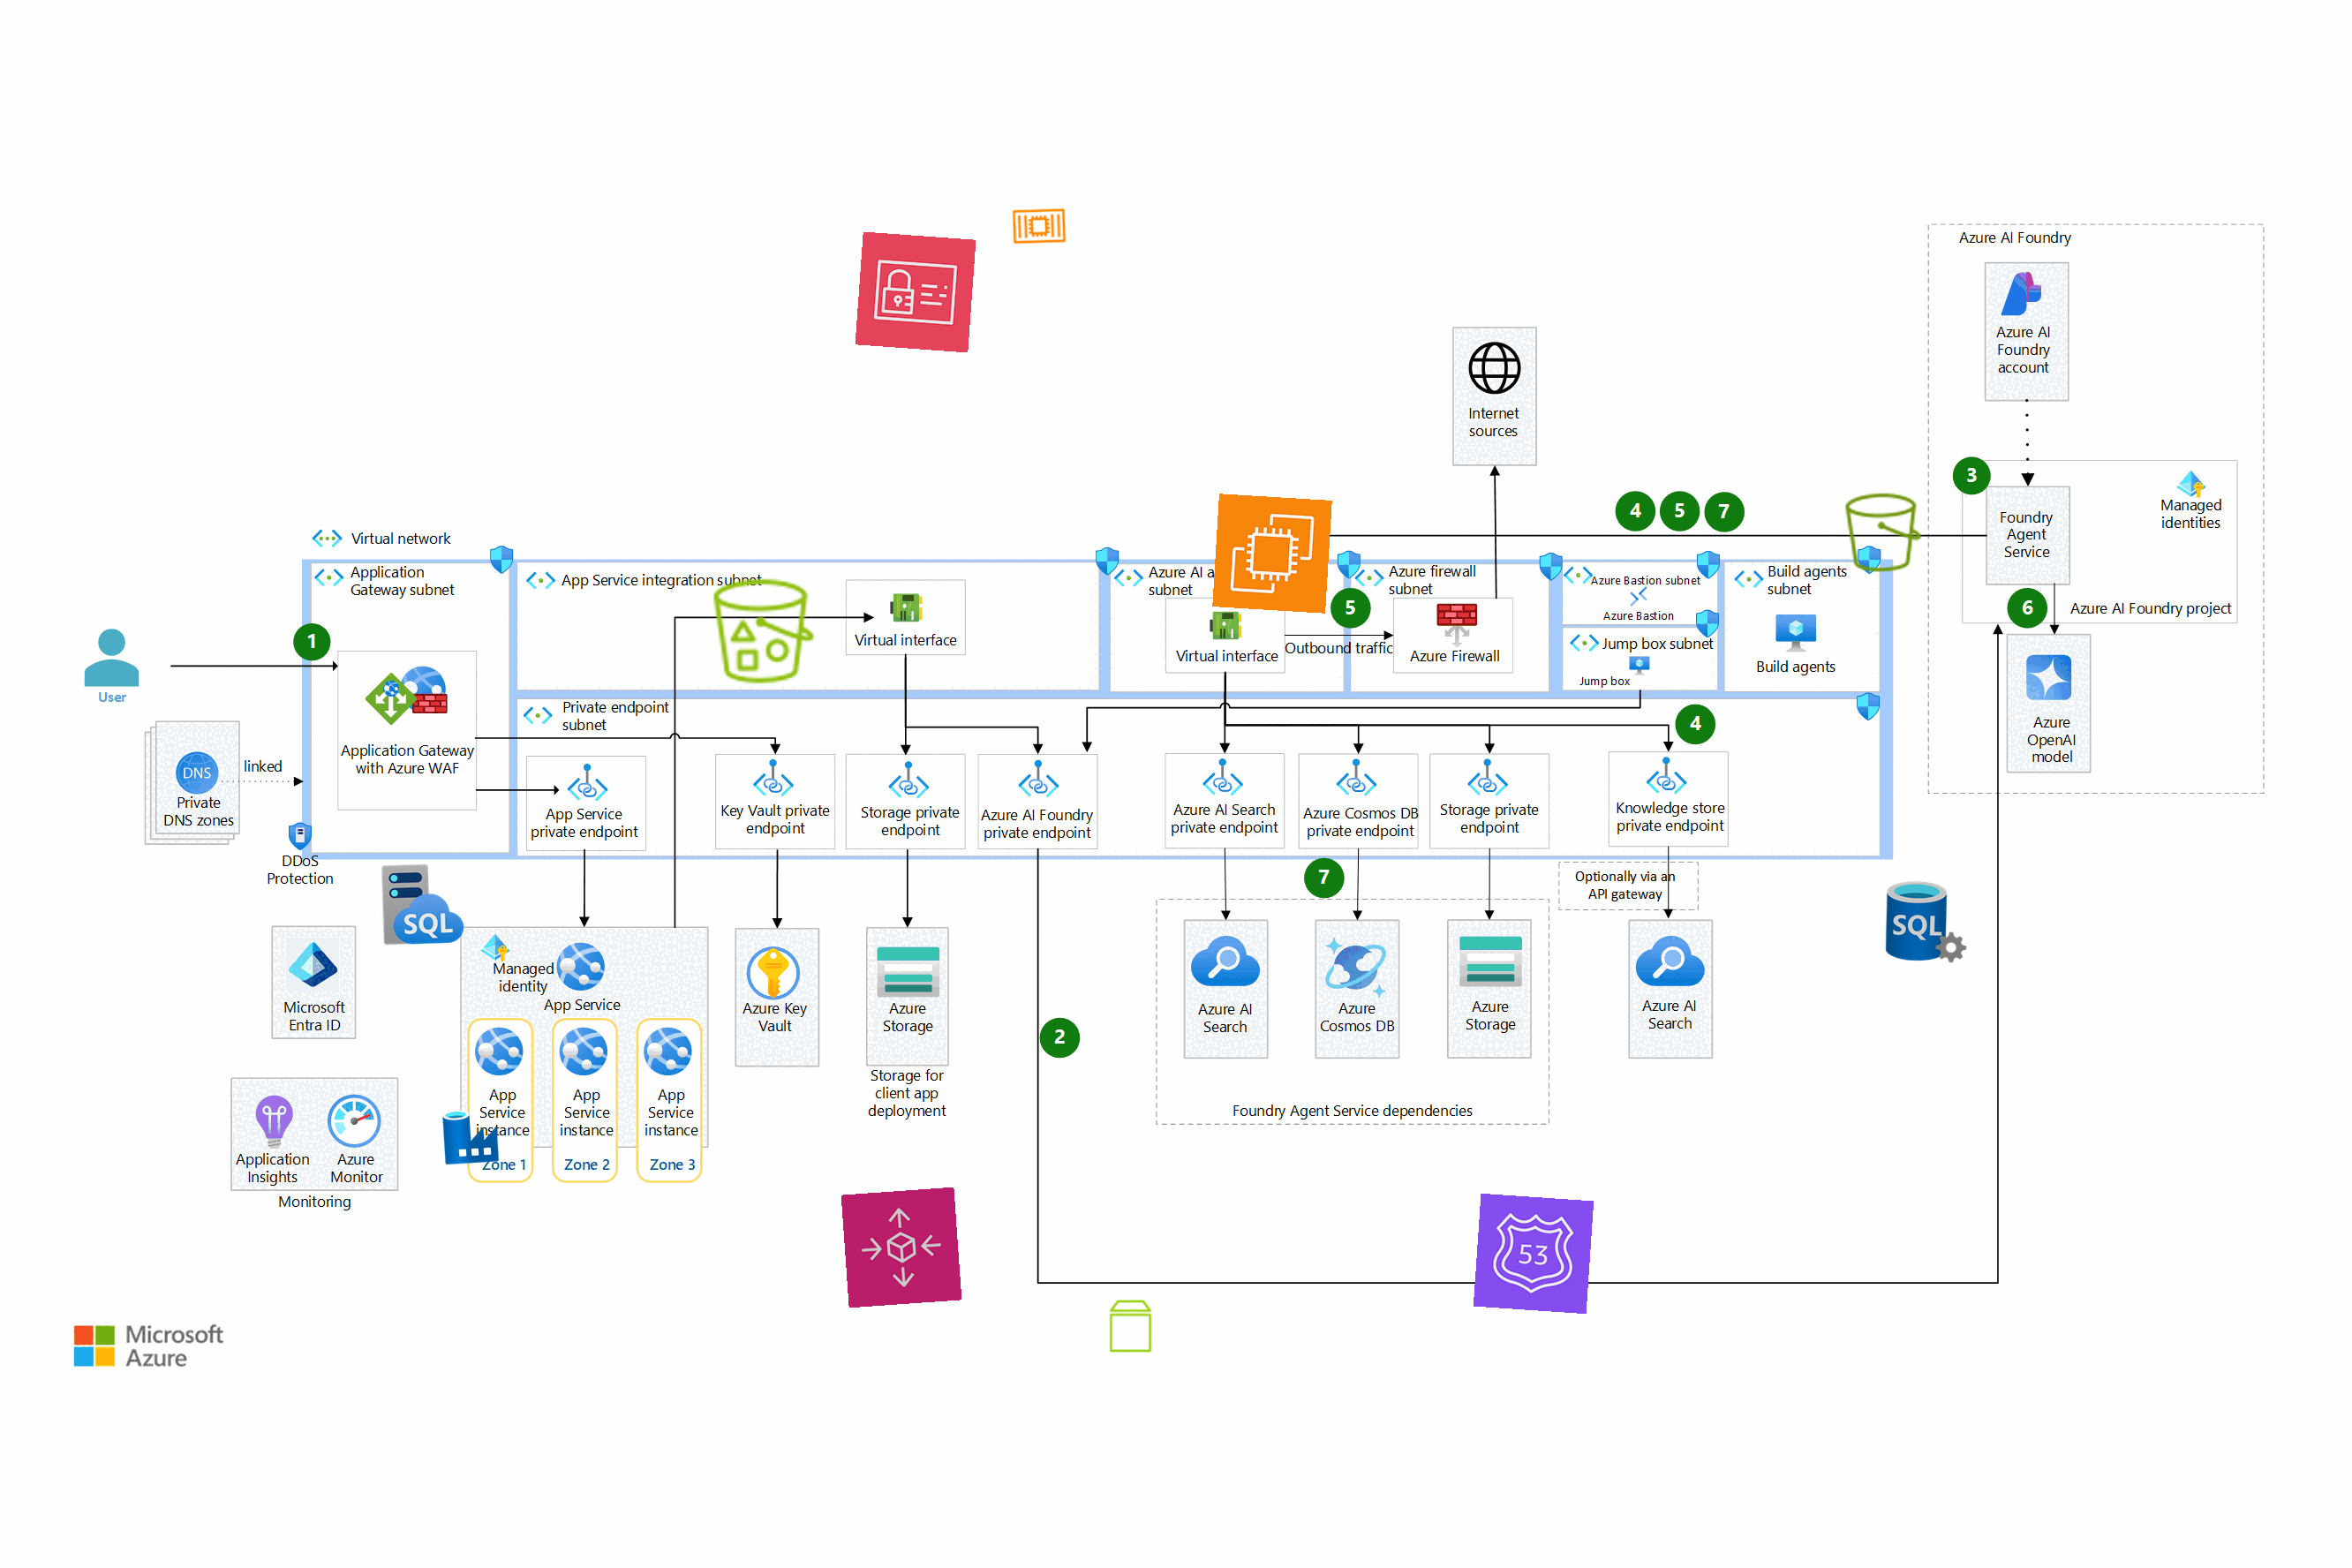aws_amazon_ec2: (1213, 494, 1332, 614)
aws_amazon_route_53: (1473, 1193, 1594, 1314)
aws_auto_scaling: (840, 1186, 963, 1309)
aws_elastic_block_store_volume: (1102, 1297, 1160, 1354)
aws_elastic_container_service_container_2: (1010, 198, 1067, 256)
aws_identity_and_access_management: (854, 231, 976, 353)
aws_simple_storage_service_bucket_with_objects: (707, 574, 821, 689)
aws_simple_storage_service_s3_standard: (1839, 488, 1927, 576)
azure_data_factories: (441, 1106, 500, 1165)
azure_sql_managed_instance: (378, 859, 467, 949)
azure_sql_server: (1883, 877, 1971, 966)
